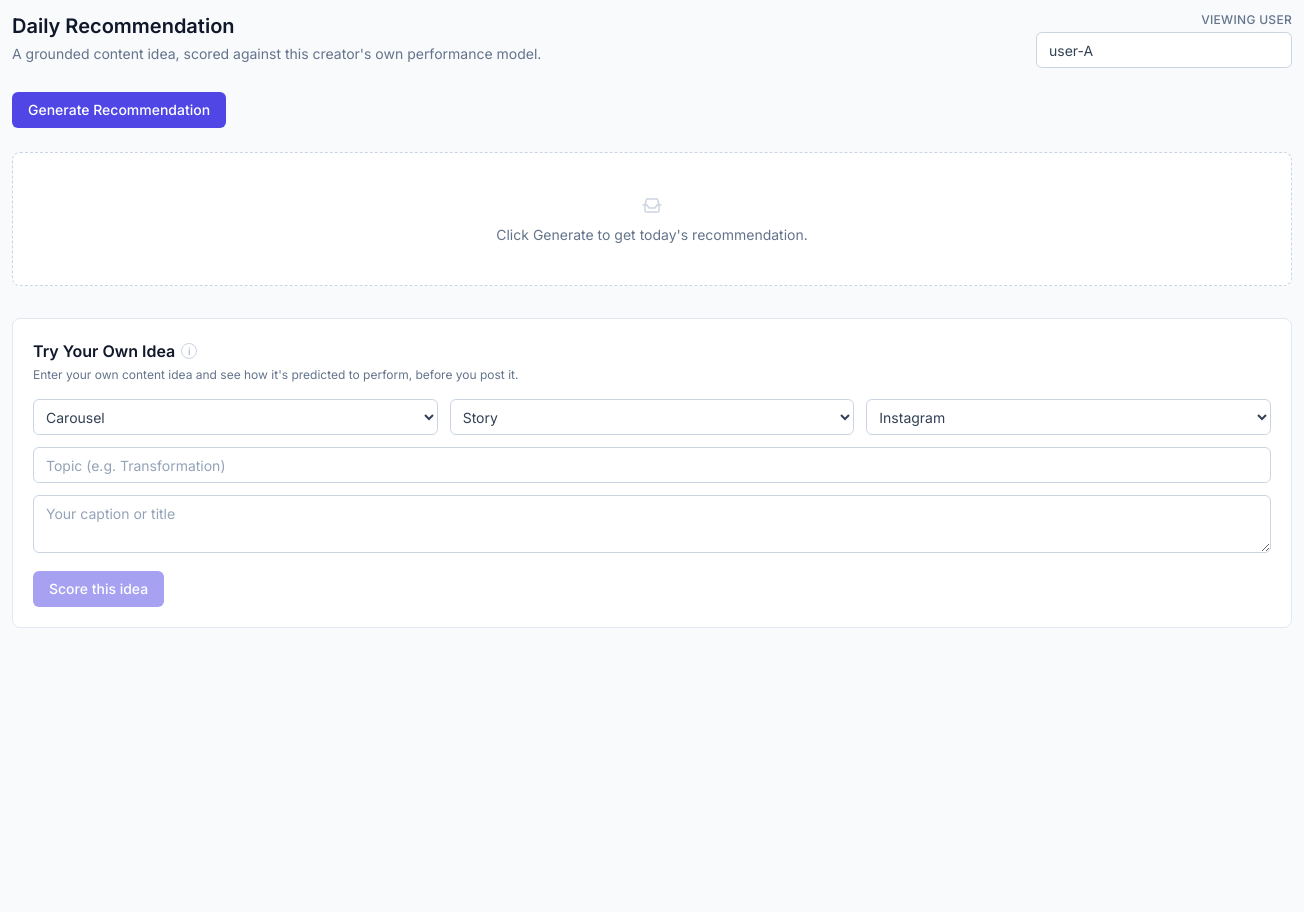
Test: recommend page state belongs to the selected user › a recommendation that finishes generating after the user switched is not shown, and Generate is not stuck
Click the button "Generate Recommendation".
click(119, 110)  # box top-left (12, 92), bottom-right (226, 128)
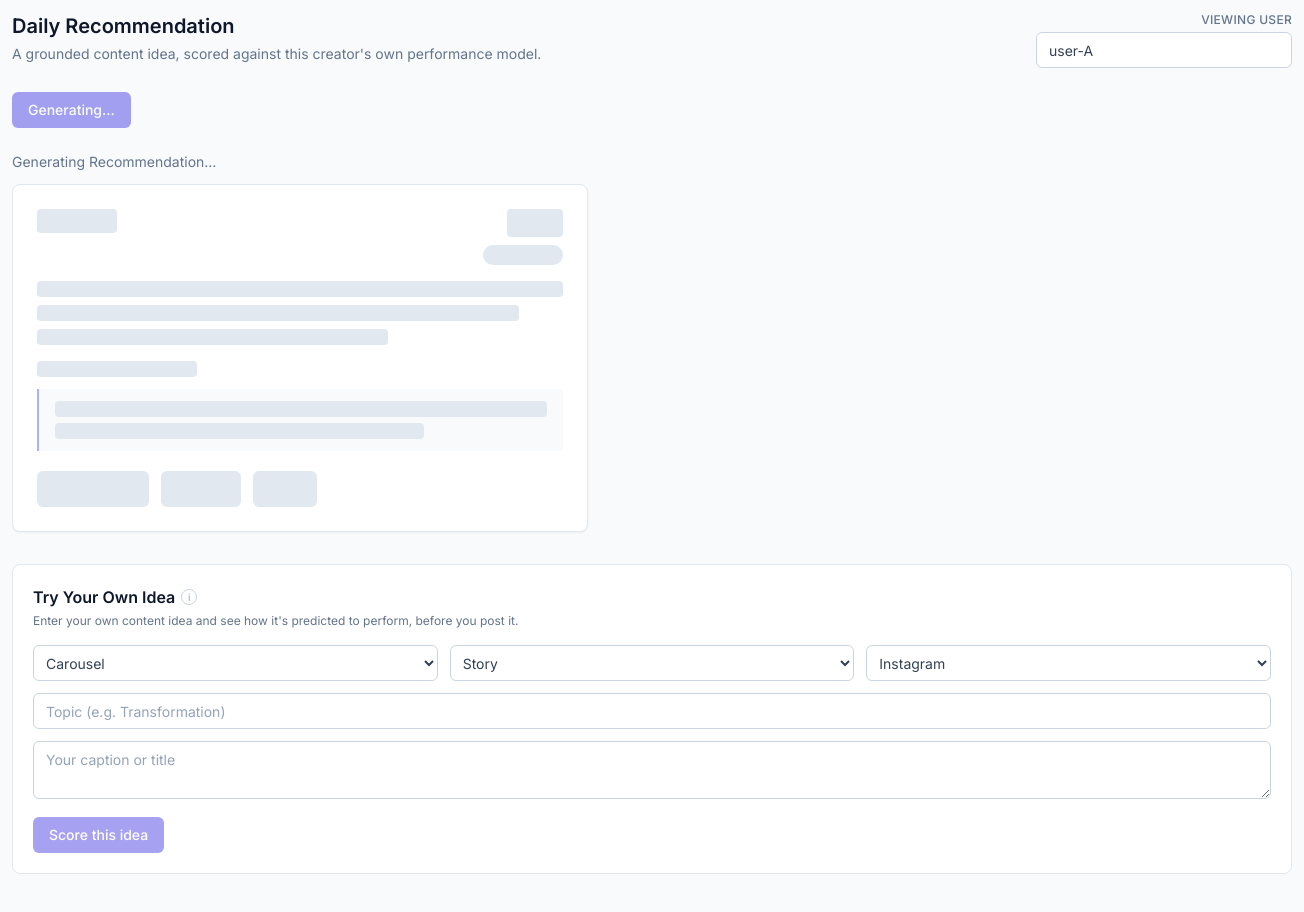
Check: the button "Generating..." is disabled, box top-left (12, 92), bottom-right (131, 128)
Replace the text in the field labelled "Viewing user" with "user-B" at [1164, 50], box top-left (1036, 32), bottom-right (1292, 68)
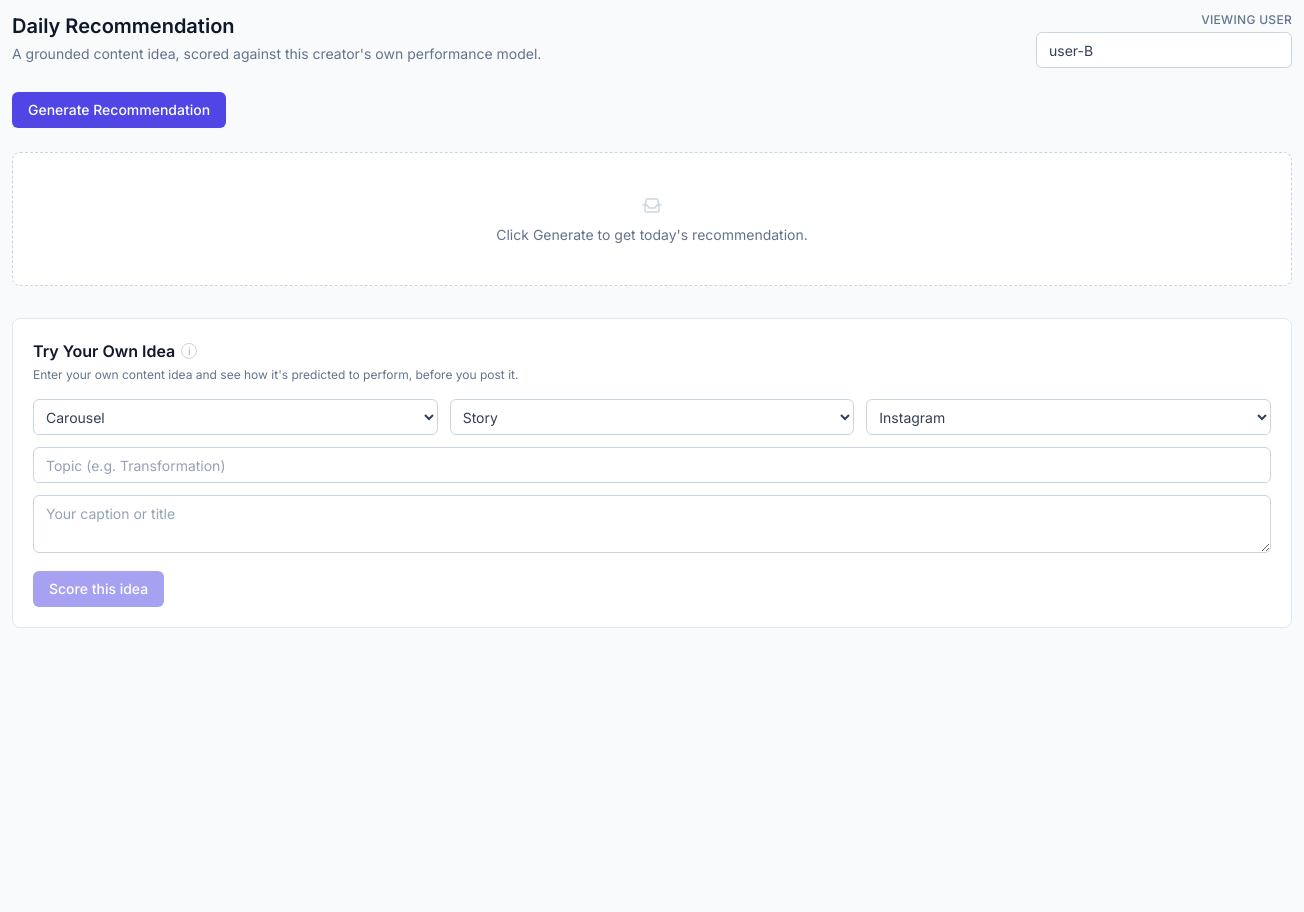
Check: the button "Generate Recommendation" is enabled, box top-left (12, 92), bottom-right (226, 128)
